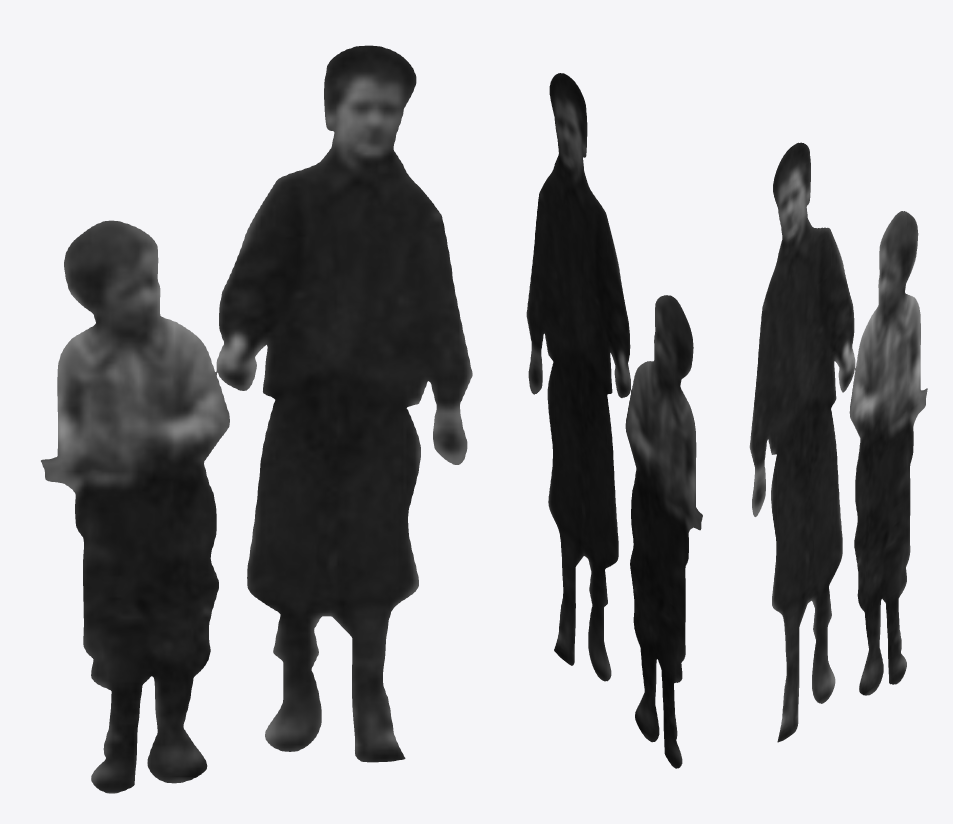
File: peoples_Ab.FBX
3 renders of one model, left to right at view 1: azimuth 30°, elevation 25°; view 2: azimuth 150°, elevation 25°; view 3: azimuth 270°, elevation 25°, orthographic. The views are drawn at different scales.
Visible parts, largest first — view 1: peoples_Ab; view 2: peoples_Ab; view 3: peoples_Ab.
Part boxes in pixels (x1,y1,x2,y2): peoples_Ab: (41, 45, 472, 793); peoples_Ab: (526, 73, 702, 768); peoples_Ab: (749, 142, 927, 742).
Bounding box in the file's own units: 93.9 × 200 × 54.51.
Materials: 1 (1 with a texture image).
